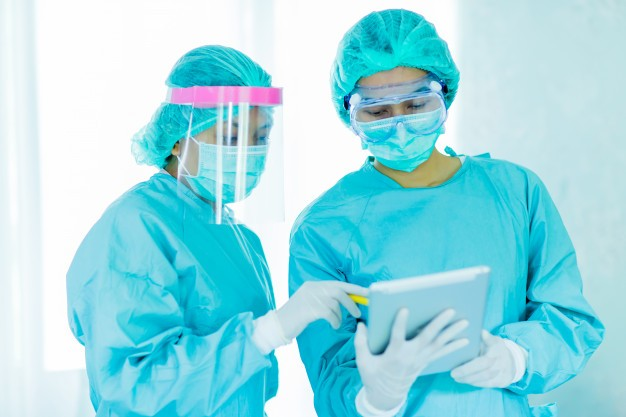Coverall: (287, 160, 605, 417), (65, 168, 282, 417)
Face_Shield: (169, 87, 287, 225)
Gloves: (353, 307, 470, 417), (252, 277, 370, 351), (448, 329, 526, 392)
Goggles: (348, 81, 447, 143)
with_mask: (194, 125, 270, 210), (357, 103, 446, 173)
